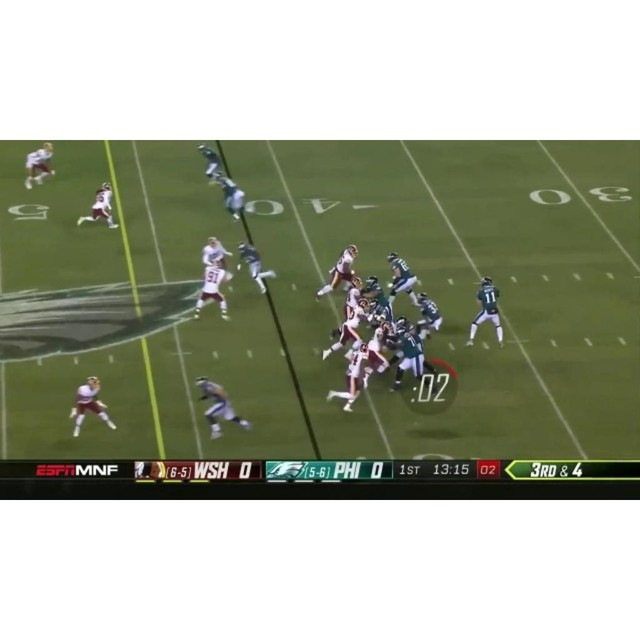american-football-player: (195, 376, 252, 440), (326, 342, 371, 412), (321, 299, 370, 362), (70, 376, 117, 440), (390, 323, 432, 393), (466, 277, 505, 348), (315, 244, 359, 302), (193, 258, 232, 321), (237, 240, 279, 294), (386, 251, 420, 308), (77, 182, 118, 229), (211, 171, 248, 223), (365, 320, 395, 377), (23, 142, 56, 190), (364, 274, 394, 321), (415, 292, 444, 338), (196, 142, 224, 186), (200, 236, 232, 273), (343, 278, 365, 320)
